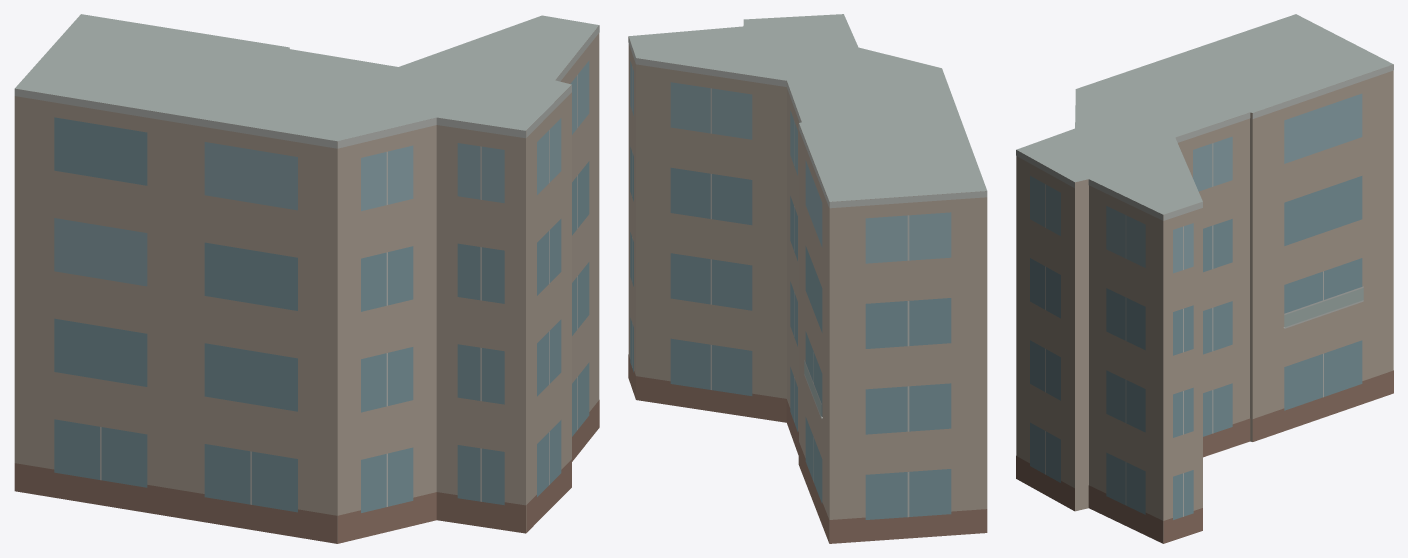
File: survey-upis-33039613.glb
The picture shows the model from 3 angles, left to right: view 1: azimuth 30°, elevation 25°; view 2: azimuth 150°, elevation 25°; view 3: azimuth 270°, elevation 25°; orthographic projection. The views are drawn at different scales.
Parts seen in each view (by area): view 1: survey-upis-33039613.tmp; view 2: survey-upis-33039613.tmp; view 3: survey-upis-33039613.tmp.
Part boxes in pixels (x1,y1,x2,y2): survey-upis-33039613.tmp: [14, 14, 599, 543]; survey-upis-33039613.tmp: [628, 14, 987, 543]; survey-upis-33039613.tmp: [1016, 14, 1393, 543].
Size of the model in its own units: 17.22 by 13.15 by 13.68.
